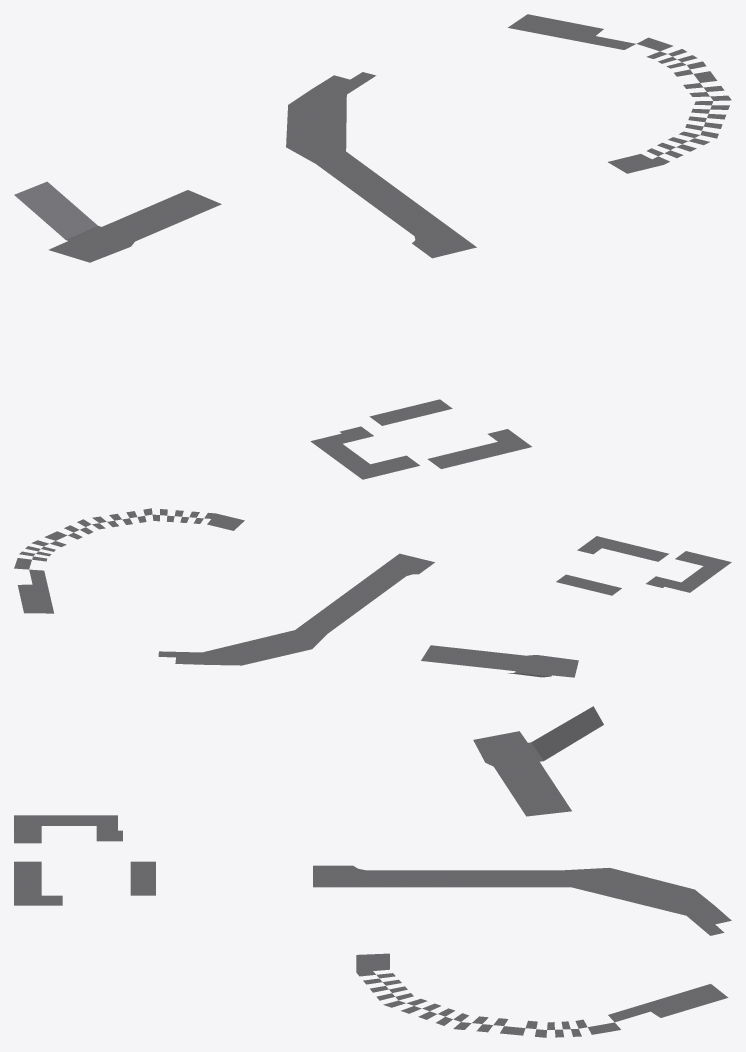
Rendered from kd_stage_1363c5_9_33_bounded.glb.
3 renders of one model, top to bottom at view 1: azimuth 30°, elevation 25°; view 2: azimuth 150°, elevation 25°; view 3: azimuth 270°, elevation 25°, orthographic. The views are drawn at different scales.
Visible parts, largest first — view 1: kd_stage_1363c5_9_33_bounded; view 2: kd_stage_1363c5_9_33_bounded; view 3: kd_stage_1363c5_9_33_bounded.
Boxes of the visible parts, box(x1,y1,x2,y2) form: kd_stage_1363c5_9_33_bounded: box(14, 14, 731, 479); kd_stage_1363c5_9_33_bounded: box(14, 508, 731, 677); kd_stage_1363c5_9_33_bounded: box(14, 706, 731, 1037).
Bounding box in the file's own units: 106 × 13.94 × 99.56.
Materials: 1 (1 with a texture image).
